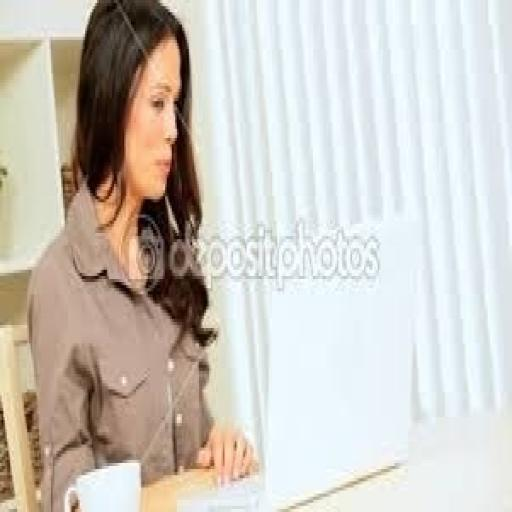using_laptop: (174, 215, 415, 509)
